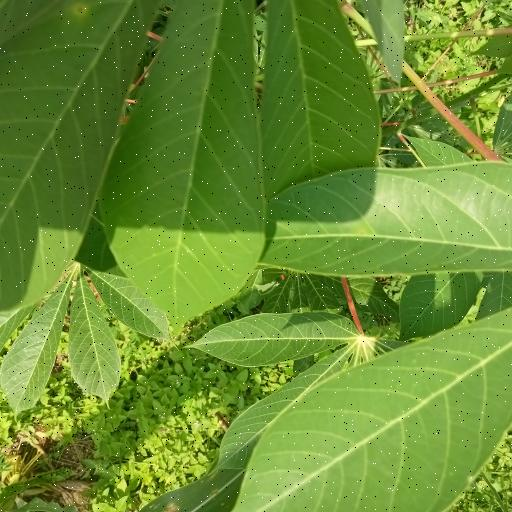Cassava_Healthy: (0, 2, 388, 326), (234, 307, 510, 512), (198, 309, 412, 459)
